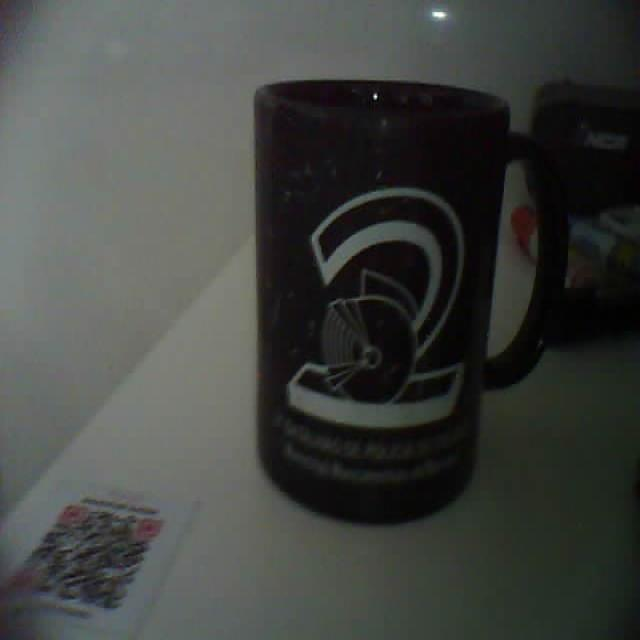caneca: (254, 79, 566, 520)
